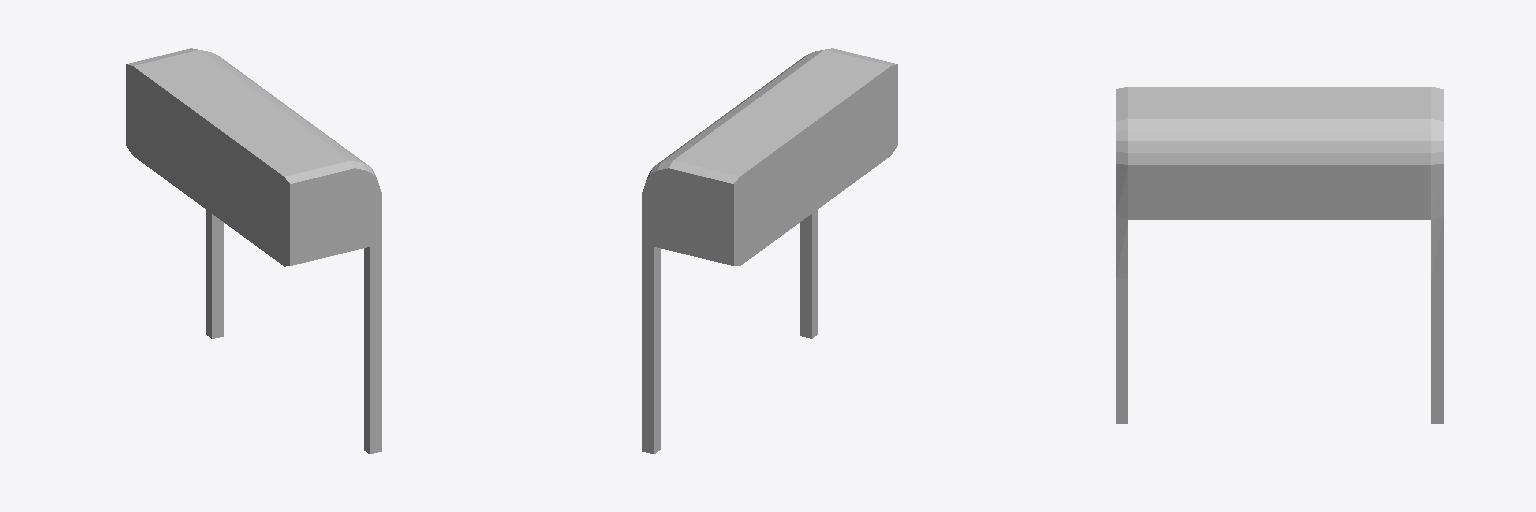
File: overhang1.obj
3 views of the same model, side by side, from view 1: azimuth 30°, elevation 25°; view 2: azimuth 150°, elevation 25°; view 3: azimuth 270°, elevation 25° (orthographic).
Visible parts, largest first — view 1: pCube1; view 2: pCube1; view 3: pCube1.
Boxes of the visible parts, x1,y1,x2,y2 form: pCube1: [126, 48, 381, 453]; pCube1: [642, 48, 897, 453]; pCube1: [1116, 87, 1443, 423].
Size of the model in its own units: 0.4959 by 1.46 by 1.48.